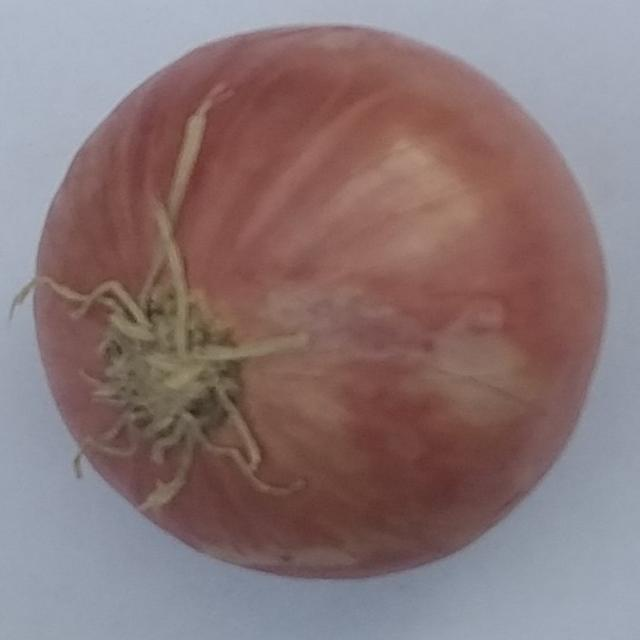onion: (24, 20, 611, 583)
